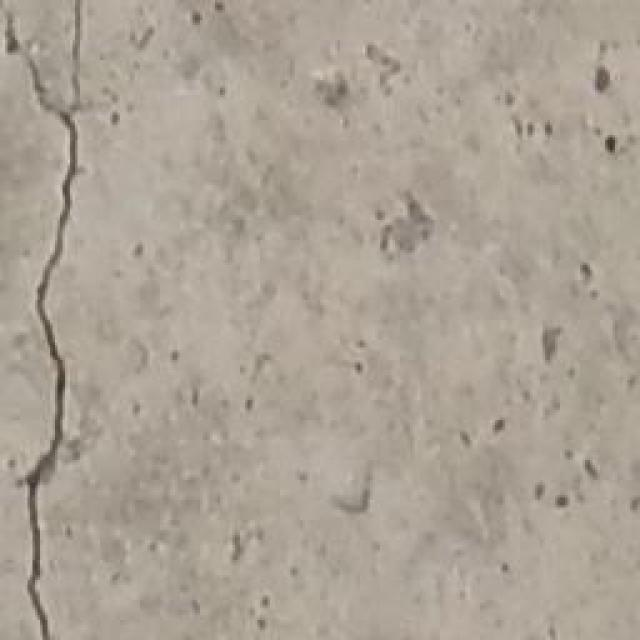concrete-crack: (5, 10, 80, 640)
